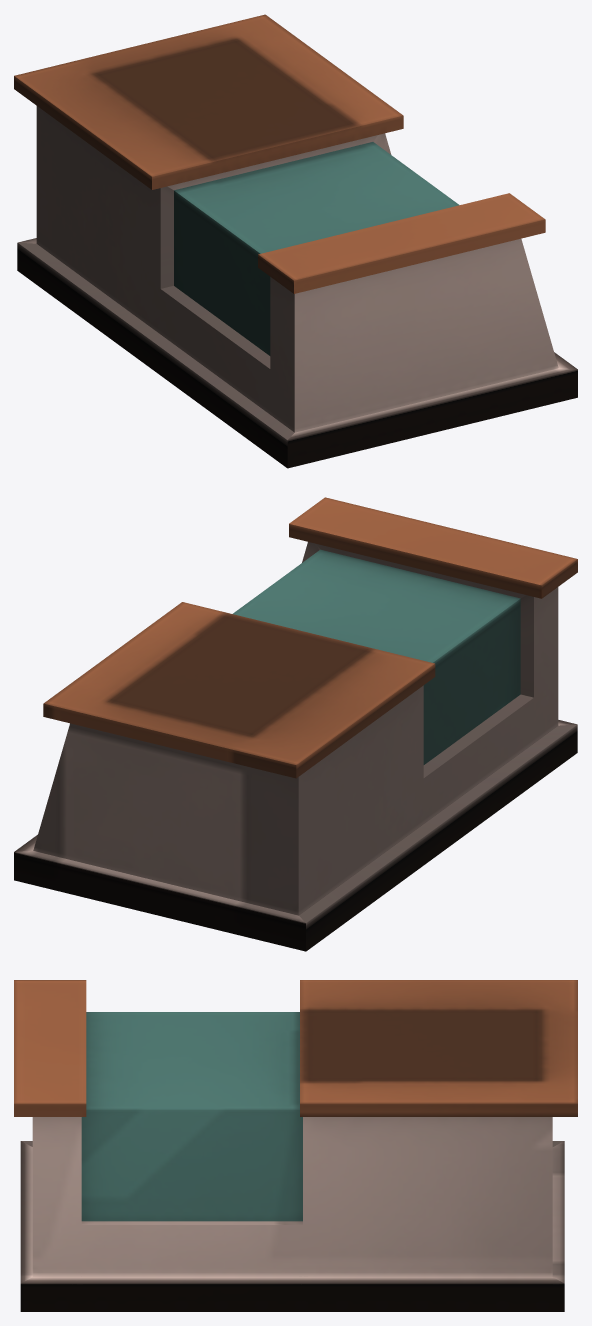
File: Tx_props_cashier_counter_7.fbx
The picture shows the model from 3 angles, top to bottom: view 1: azimuth 30°, elevation 25°; view 2: azimuth 150°, elevation 25°; view 3: azimuth 270°, elevation 25°; orthographic projection.
Visible parts, largest first — view 1: polySurface13, polySurface7, polySurface10; view 2: polySurface13, polySurface7, polySurface10; view 3: polySurface13, polySurface7, polySurface10.
Boxes of the visible parts, left/top/right/bottom form: polySurface13: left=17, top=106, right=577, bottom=468; polySurface7: left=14, top=14, right=403, bottom=189; polySurface10: left=258, top=193, right=545, bottom=293; polySurface13: left=14, top=542, right=577, bottom=951; polySurface7: left=43, top=602, right=435, bottom=778; polySurface10: left=289, top=497, right=577, bottom=598; polySurface13: left=20, top=1012, right=564, bottom=1311; polySurface7: left=300, top=980, right=577, bottom=1116; polySurface10: left=14, top=980, right=86, bottom=1116.
Size of the model in its own units: 5.48 by 3.41 by 9.15.
